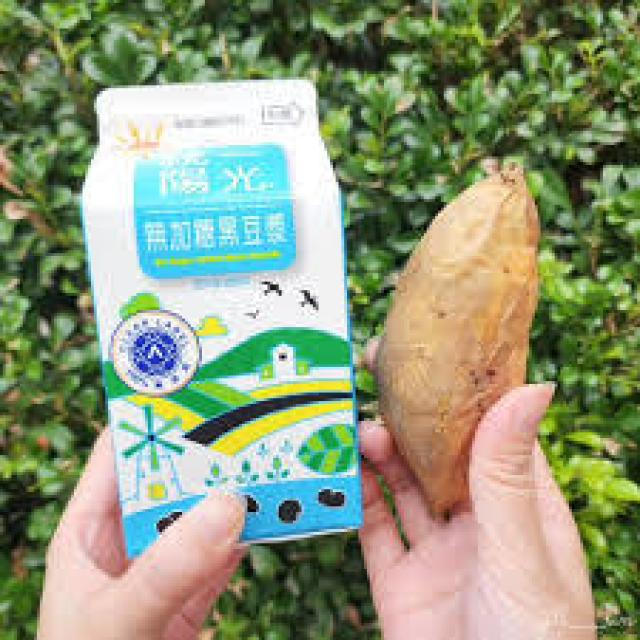TongYi_UnsweetenedBlackSoyMilk: (76, 74, 363, 538)
